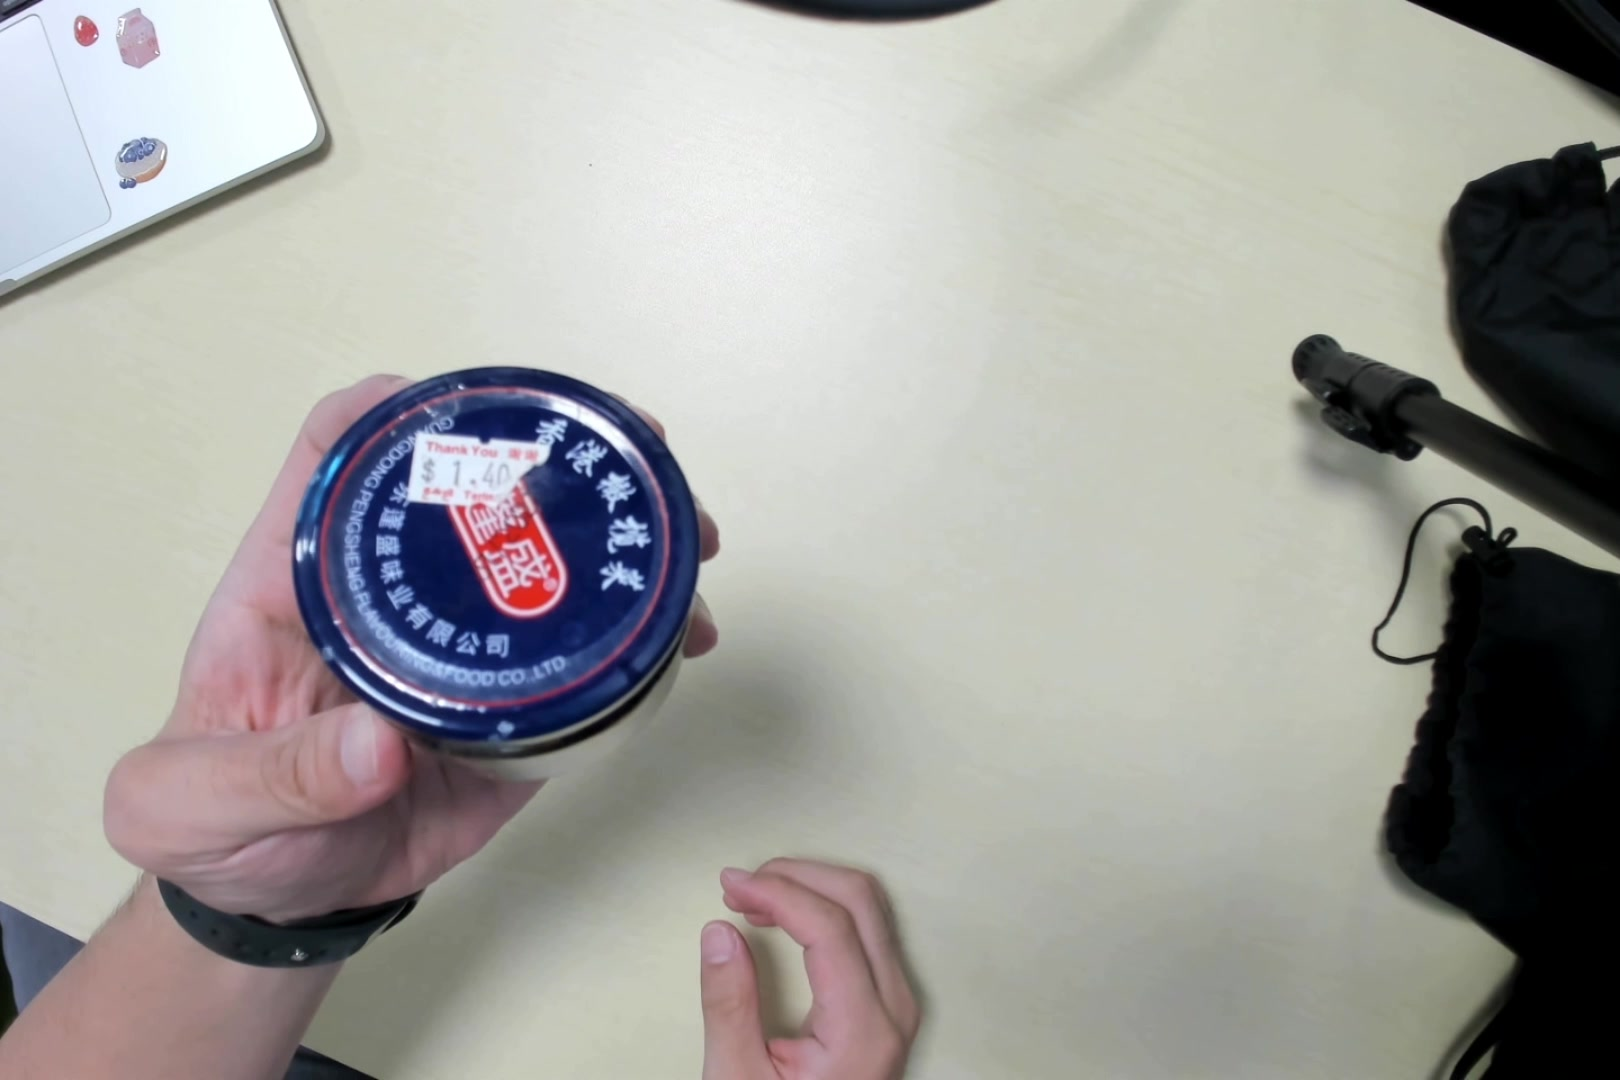OtherCannedVegetables_100-199g_Halal_NonHealthy: (303, 360, 702, 765)
